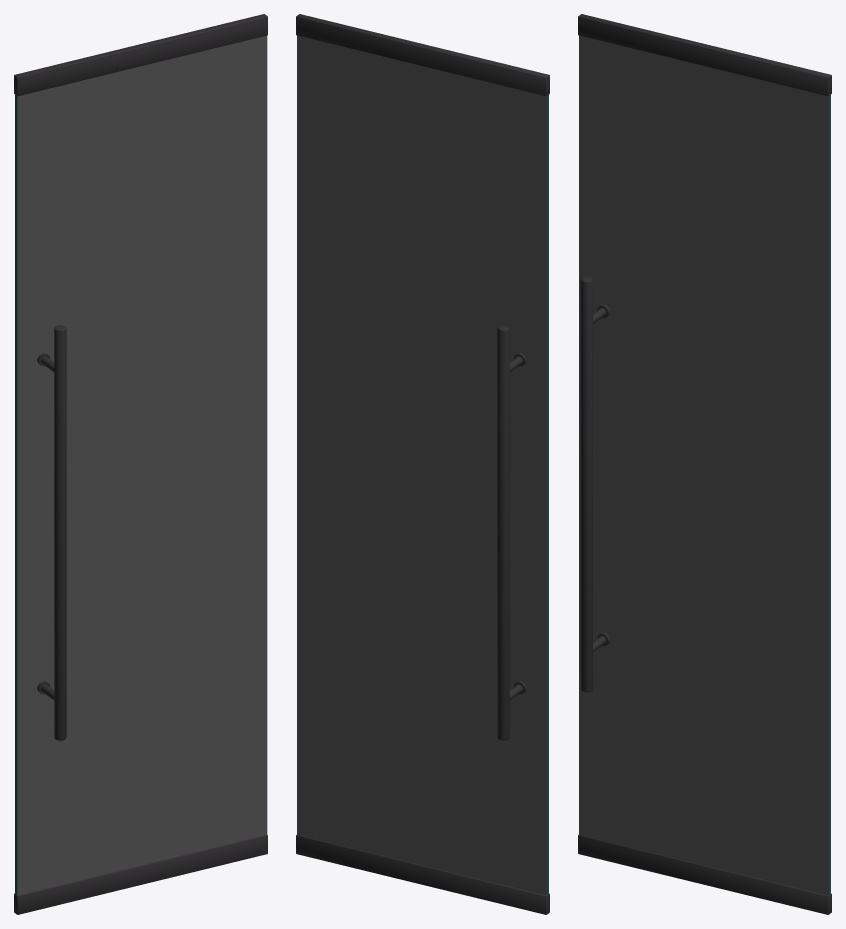
The model's file is glass door.FBX.
3 renders of one model, left to right at view 1: azimuth 30°, elevation 25°; view 2: azimuth 150°, elevation 25°; view 3: azimuth 330°, elevation 25°, orthographic.
Visible parts, largest first — view 1: glass door; view 2: glass door; view 3: glass door.
Part boxes in pixels (x1,y1,x2,y2): glass door: [14, 14, 267, 914]; glass door: [296, 14, 549, 914]; glass door: [578, 14, 831, 914].
Size of the model in its own units: 32.82 by 9.87 by 105.
Materials: 2 (2 with a texture image).
